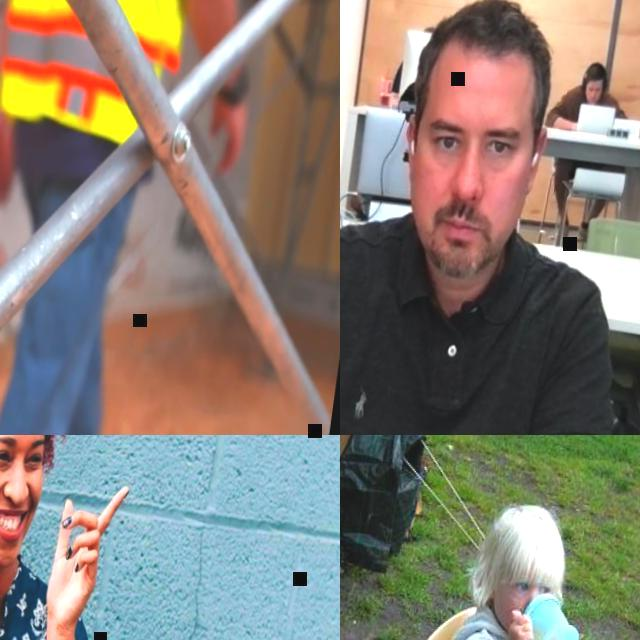no_helmet: (428, 0, 561, 94), (478, 500, 574, 586), (586, 60, 610, 80)
no_mask: (414, 198, 510, 280), (0, 499, 38, 571), (490, 590, 539, 628), (586, 88, 600, 102)
no_vest: (340, 237, 568, 435), (568, 86, 610, 125)
person: (340, 0, 640, 435), (0, 0, 271, 435), (407, 495, 640, 640), (0, 435, 160, 640), (532, 55, 636, 242), (390, 21, 437, 94)
vest: (0, 0, 193, 145)
